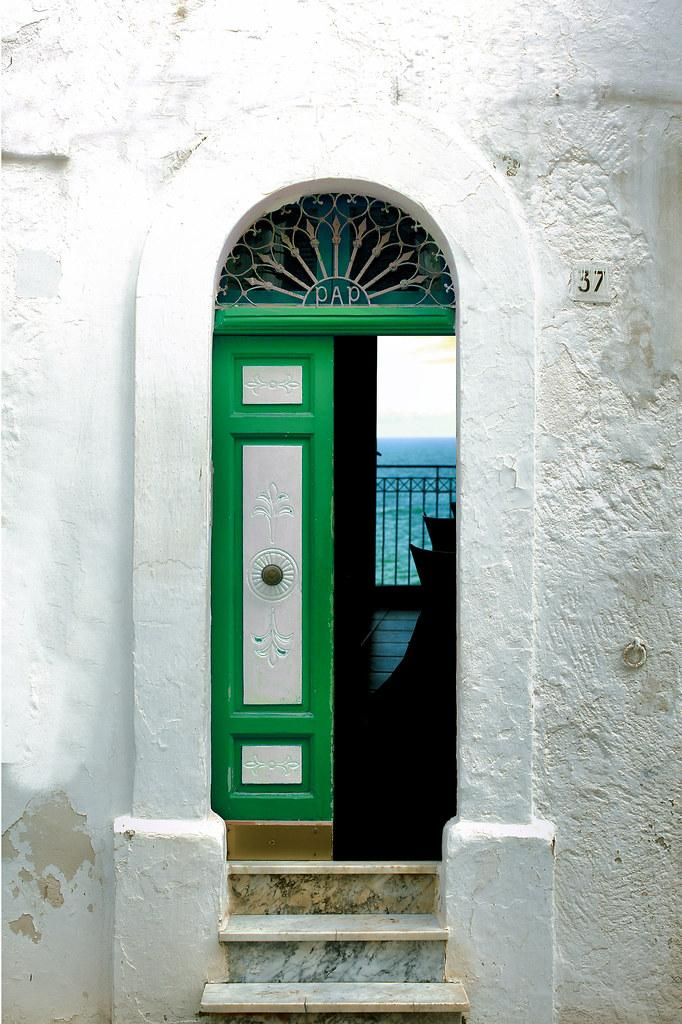door: (208, 178, 465, 820), (214, 330, 461, 821), (210, 334, 336, 823)
